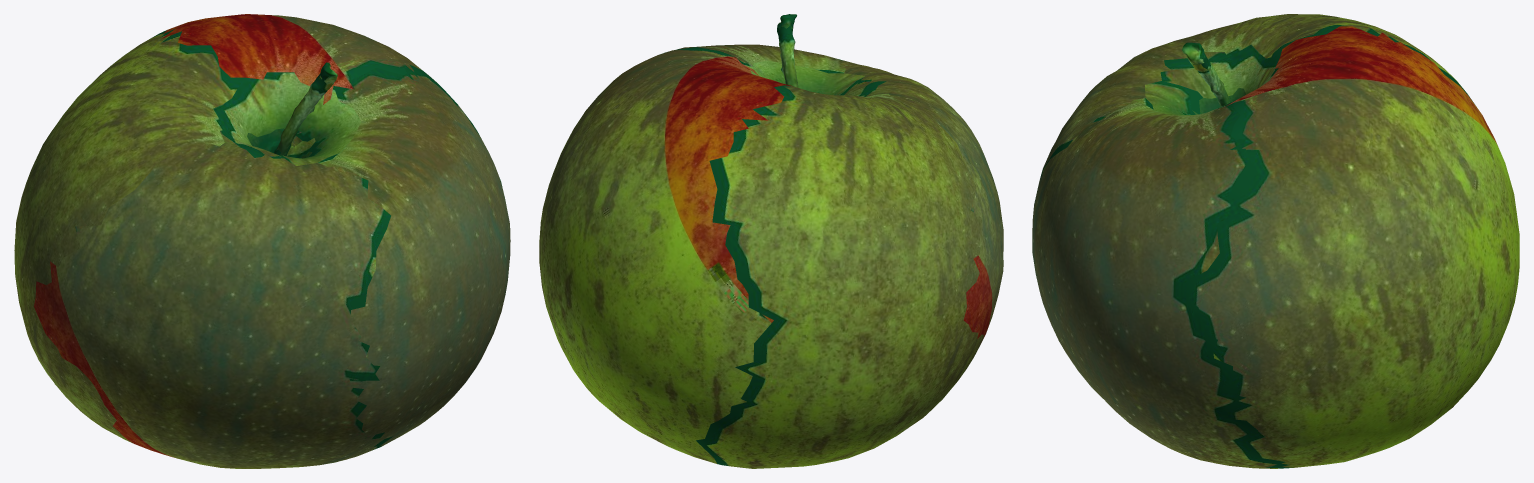
File: food_apple_01_1k.glb
3 renders of one model, left to right at view 1: azimuth 30°, elevation 25°; view 2: azimuth 150°, elevation 25°; view 3: azimuth 270°, elevation 25°, orthographic. The views are drawn at different scales.
Parts seen in each view (by area): view 1: food_apple_01; view 2: food_apple_01; view 3: food_apple_01.
Part boxes in pixels (left/top/right/bottom): food_apple_01: left=14, top=14, right=510, bottom=468; food_apple_01: left=539, top=14, right=1003, bottom=468; food_apple_01: left=1032, top=14, right=1519, bottom=468.
Bounding box in the file's own units: 0.0976 × 0.0854 × 0.0959.
Materials: 1 (1 with a texture image).
